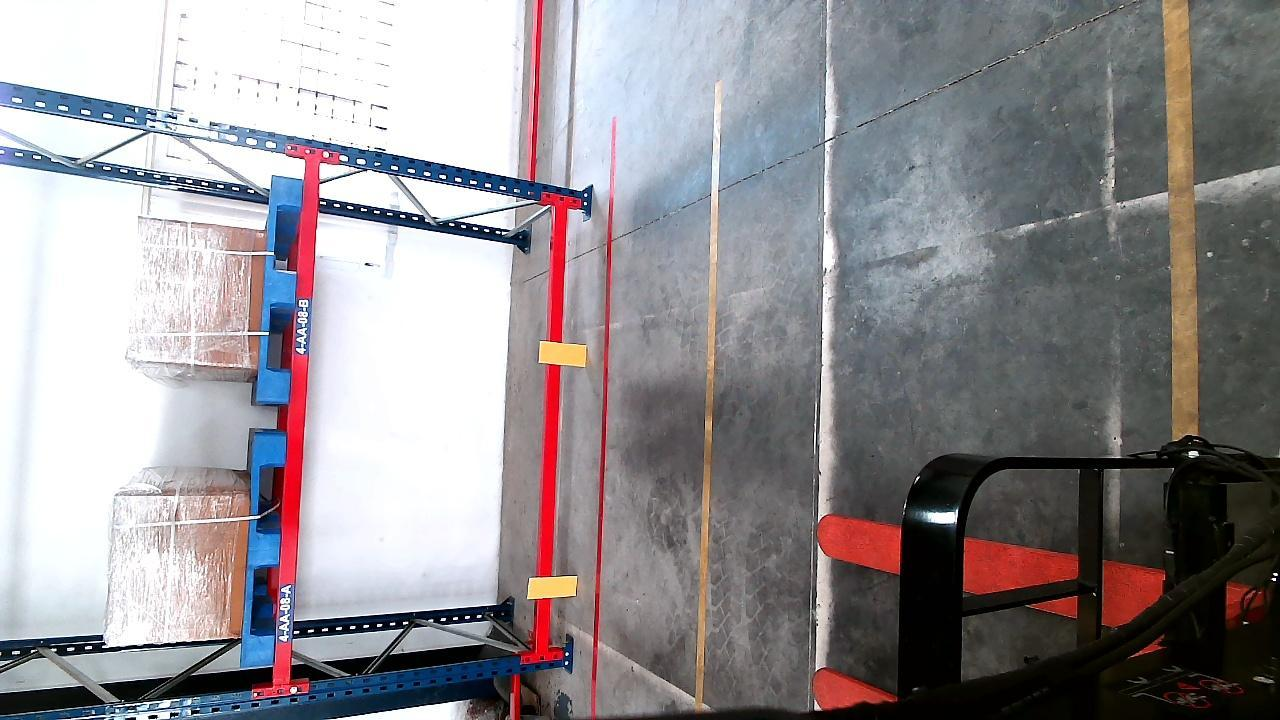red_line: (584, 115, 622, 714)
yellow_line: (686, 78, 726, 709), (1167, 0, 1203, 442)
